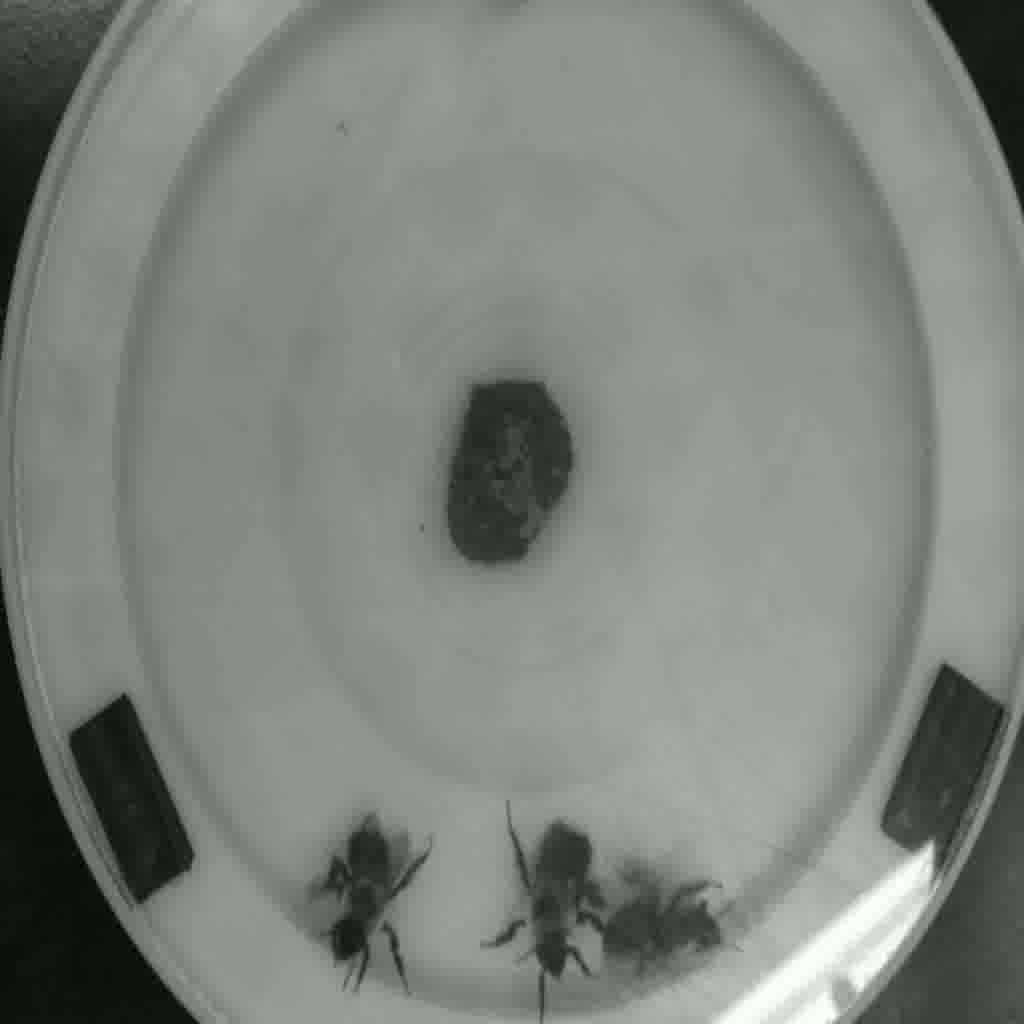bee: (318, 839, 421, 970), (516, 830, 604, 975), (600, 880, 729, 968)
